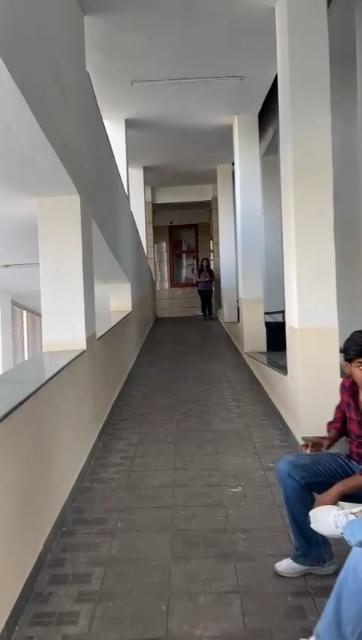floor: (14, 316, 293, 640)
moving-obj: (283, 332, 362, 639)
wall: (5, 309, 147, 623), (281, 4, 335, 386), (40, 1, 86, 336), (84, 86, 142, 276), (244, 96, 264, 352), (132, 246, 144, 304)
